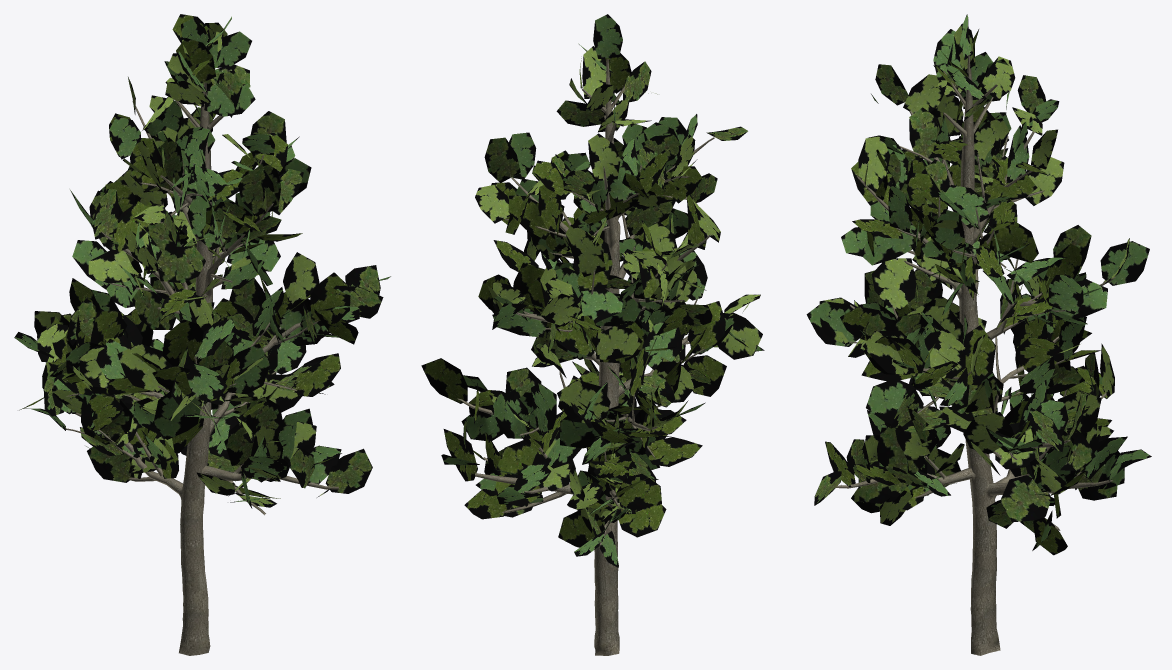
The model's file is Oak_White_Desktop_Field_3_002_b73080.glb.
3 views of the same model, side by side, from view 1: azimuth 30°, elevation 25°; view 2: azimuth 150°, elevation 25°; view 3: azimuth 270°, elevation 25° (orthographic). The views are drawn at different scales.
Bounding box in the file's own units: 5.78 × 11.8 × 6.18.
Materials: 2 (2 with a texture image).
